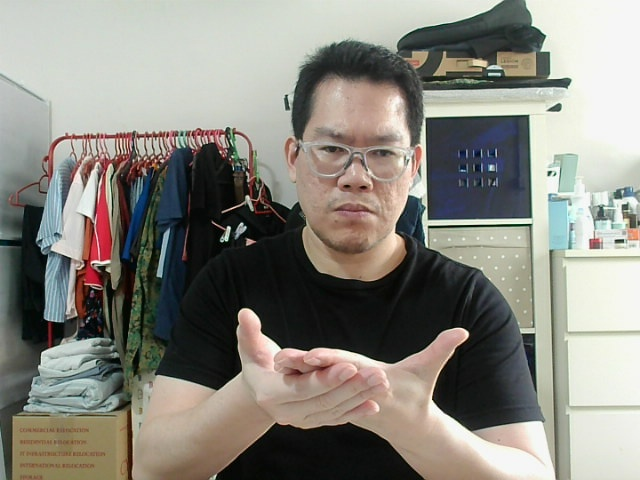good: (247, 320, 374, 424)
